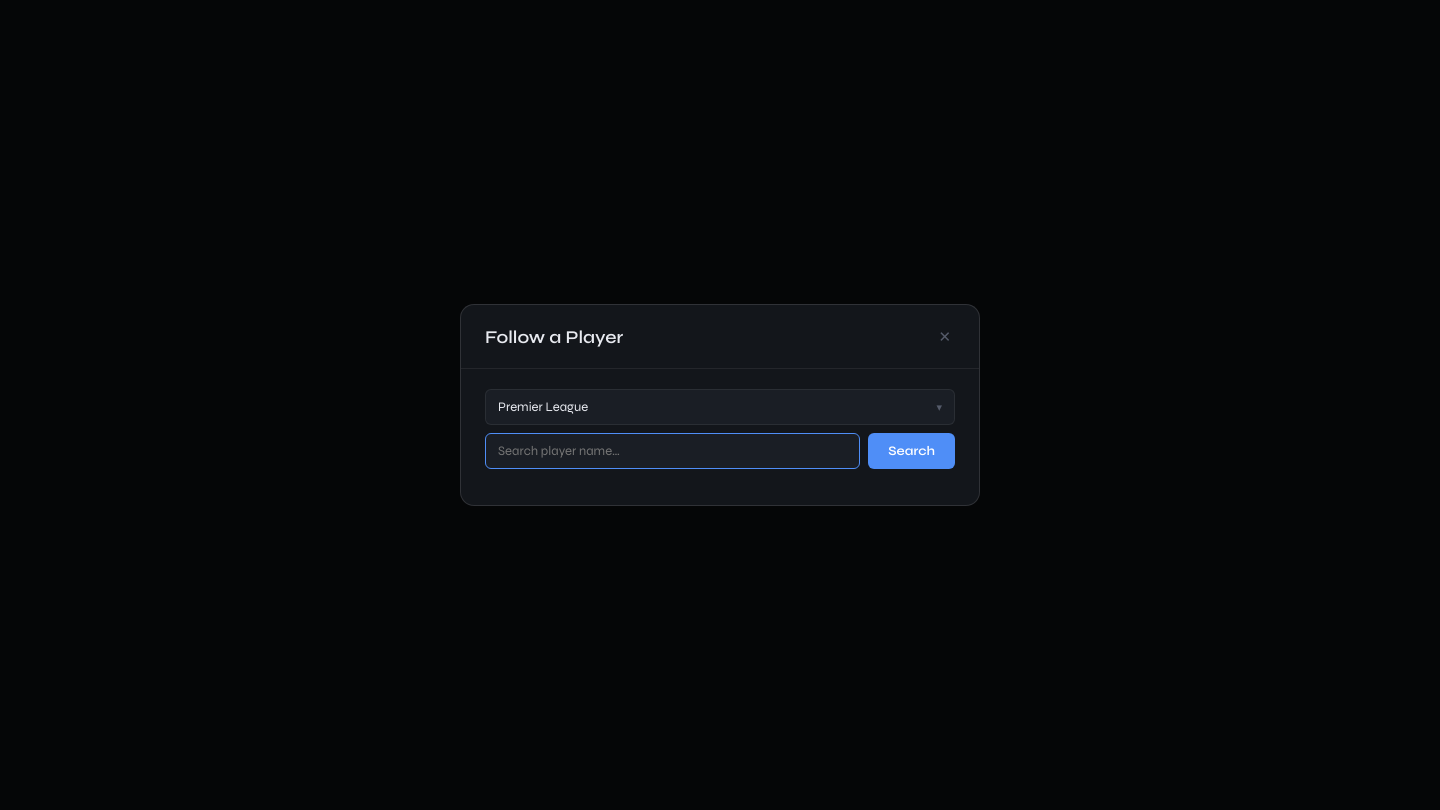
LeaguePicker › opens the league list when the button is clicked
Click the text "Premier League": [543, 407] box top-left (498, 399), bottom-right (588, 415)
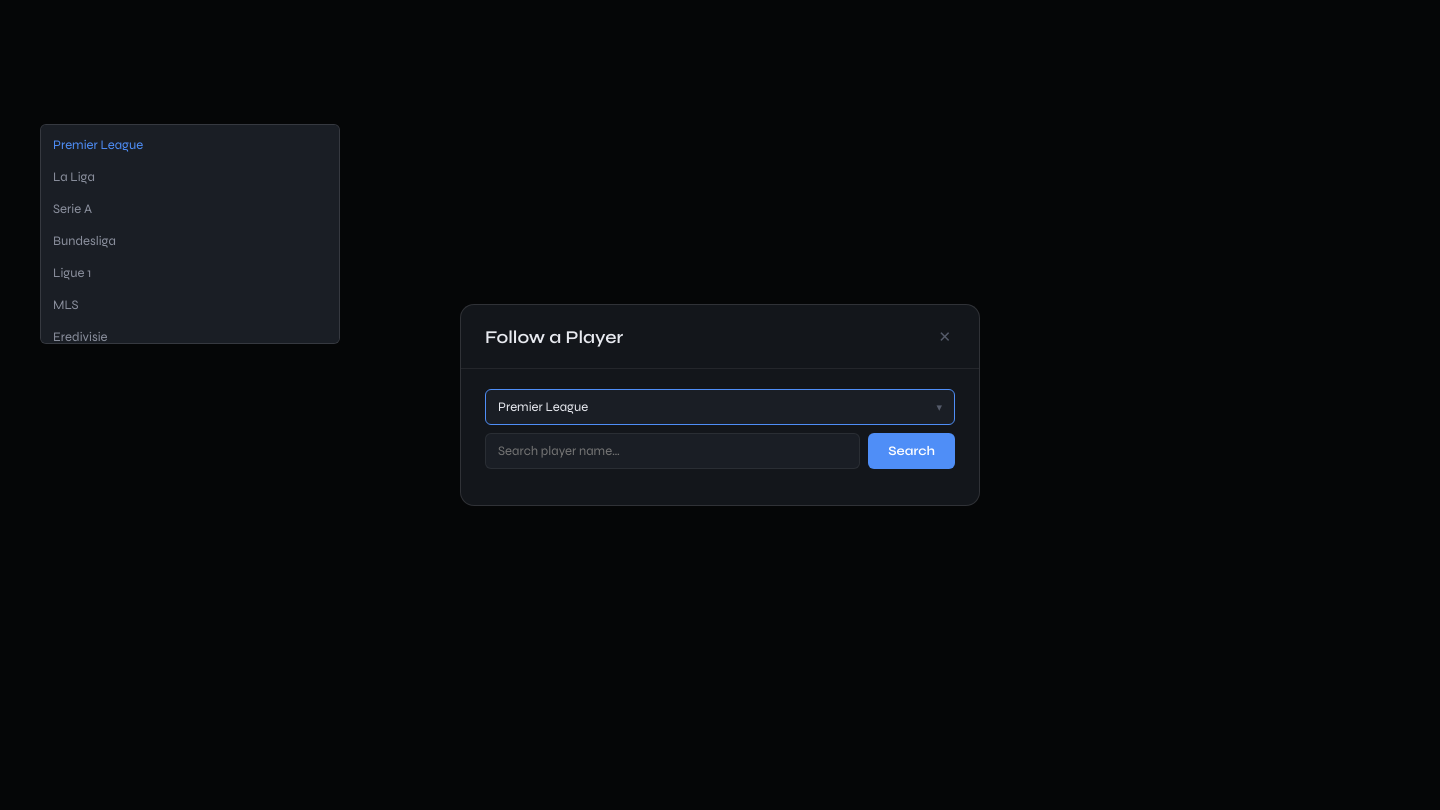
Check: the list item "La Liga" is shown, box top-left (53, 169), bottom-right (95, 185)
Check: the list item "Serie A" is shown, box top-left (53, 201), bottom-right (92, 217)
